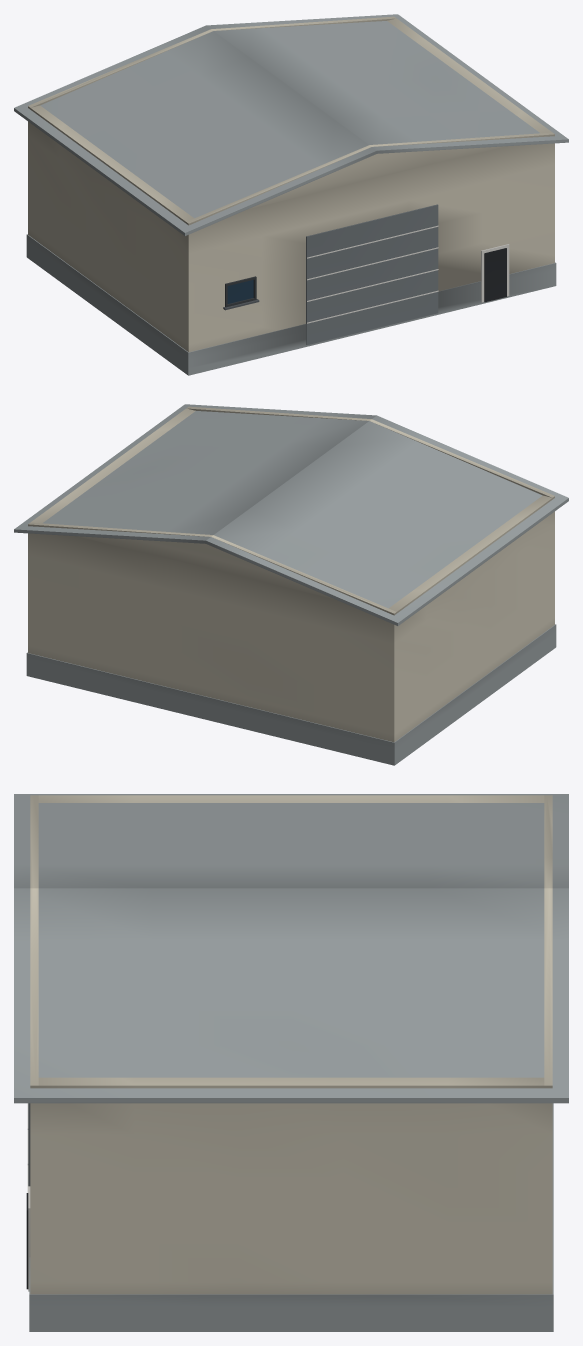
Rendered from deposito-CzcJZjkX.glb.
3 views of the same model, one above another, from view 1: azimuth 30°, elevation 25°; view 2: azimuth 150°, elevation 25°; view 3: azimuth 270°, elevation 25° (orthographic). The views are drawn at different scales.
Parts seen in each view (by area): view 1: pieza, losa, losa.001, porton, pieza.001, mojinete, mojinete.001, puerta.001, ventana, puerta; view 2: pieza, losa, losa.001, pieza.001, mojinete.001, mojinete; view 3: losa.001, pieza, losa, pieza.001, mojinete, mojinete.001.
Boxes of the visible parts, x1,y1,x2,y2 form: pieza: (28, 18, 554, 352); losa: (14, 25, 376, 235); losa.001: (206, 14, 568, 153); porton: (306, 204, 438, 344); pieza.001: (26, 234, 556, 375); mojinete: (186, 132, 554, 223); mojinete.001: (28, 16, 396, 107); puerta.001: (484, 248, 506, 302); ventana: (227, 280, 253, 303); puerta: (481, 244, 509, 302); pieza: (28, 408, 554, 742); losa: (206, 415, 568, 625); losa.001: (14, 404, 376, 543); pieza.001: (26, 624, 556, 765); mojinete.001: (28, 522, 396, 613); mojinete: (186, 406, 554, 497); losa.001: (14, 888, 568, 1103); pieza: (30, 795, 552, 1294); losa: (14, 794, 568, 888); pieza.001: (29, 1103, 553, 1331); mojinete: (30, 795, 38, 1085); mojinete.001: (544, 795, 552, 1085).
Size of the model in its own units: 17.5 by 8 by 13.5.
